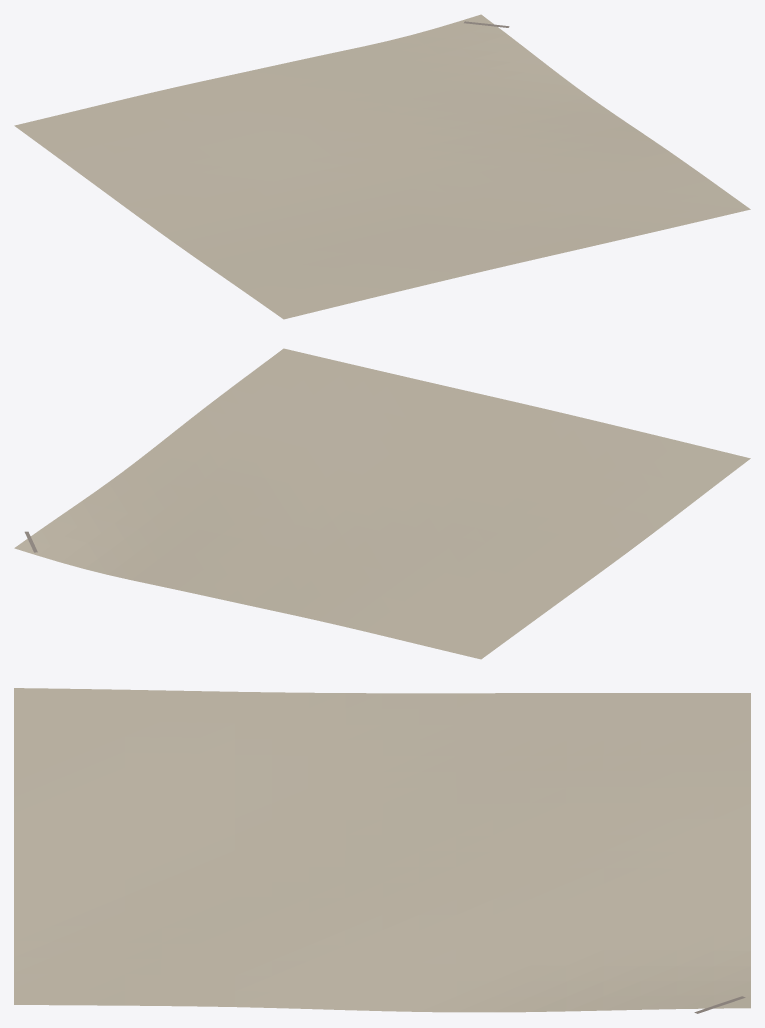
The model's file is bolak_-39_-4.glb.
3 views of the same model, one above another, from view 1: azimuth 30°, elevation 25°; view 2: azimuth 150°, elevation 25°; view 3: azimuth 270°, elevation 25° (orthographic). The views are drawn at different scales.
Visible parts, largest first — view 1: Yer_Tuproq-col; view 2: Yer_Tuproq-col; view 3: Yer_Tuproq-col.
Boxes of the visible parts, x1,y1,x2,y2 form: Yer_Tuproq-col: (14,14,750,319); Yer_Tuproq-col: (14,348,750,659); Yer_Tuproq-col: (14,688,750,1012).
Bounding box in the file's own units: 408 × 8.28 × 400.
